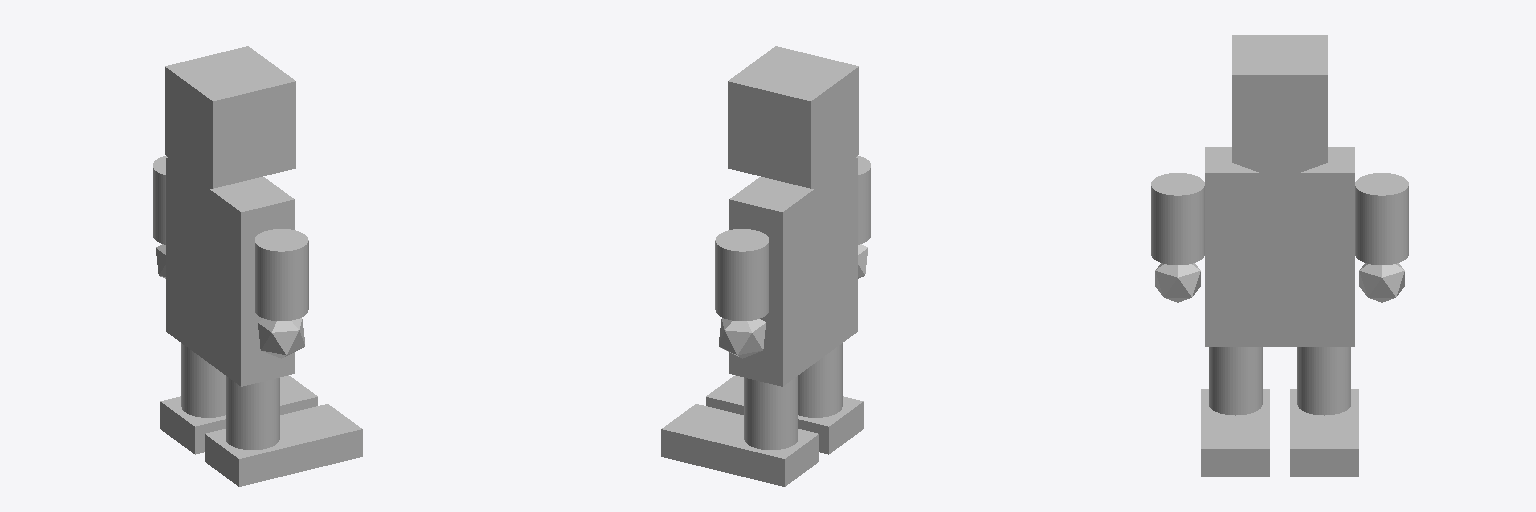
File: pawn_rev01.obj
3 renders of one model, left to right at view 1: azimuth 30°, elevation 25°; view 2: azimuth 150°, elevation 25°; view 3: azimuth 270°, elevation 25°, orthographic.
Parts seen in each view (by area): view 1: body_bodyMesh, head_headMesh, footRight_footRightMesh, armRight_armRightMesh, legRight_legRightMesh, footLeft_footLeftMesh, legLeft_legLeftMesh, handRight_handRightMesh, armLeft_armLeftMesh; view 2: body_bodyMesh, head_headMesh, footLeft_footLeftMesh, armLeft_armLeftMesh, legLeft_legLeftMesh, footRight_footRightMesh, legRight_legRightMesh, handLeft_handLeftMesh, armRight_armRightMesh; view 3: body_bodyMesh, head_headMesh, footLeft_footLeftMesh, footRight_footRightMesh, armLeft_armLeftMesh, armRight_armRightMesh, legLeft_legLeftMesh, legRight_legRightMesh, handLeft_handLeftMesh, handRight_handRightMesh.
Part boxes in pixels (left/top/right/bottom): body_bodyMesh: left=166, top=157, right=294, bottom=386; head_headMesh: left=165, top=46, right=295, bottom=188; footRight_footRightMesh: left=205, top=404, right=362, bottom=486; armRight_armRightMesh: left=255, top=229, right=308, bottom=320; legRight_legRightMesh: left=226, top=376, right=279, bottom=449; footLeft_footLeftMesh: left=160, top=375, right=317, bottom=454; legLeft_legLeftMesh: left=181, top=343, right=225, bottom=417; handRight_handRightMesh: left=258, top=318, right=304, bottom=358; armLeft_armLeftMesh: left=153, top=156, right=166, bottom=244; body_bodyMesh: left=729, top=157, right=857, bottom=386; head_headMesh: left=728, top=46, right=858, bottom=188; footLeft_footLeftMesh: left=661, top=404, right=818, bottom=486; armLeft_armLeftMesh: left=715, top=229, right=768, bottom=320; legLeft_legLeftMesh: left=744, top=376, right=797, bottom=449; footRight_footRightMesh: left=706, top=375, right=863, bottom=454; legRight_legRightMesh: left=798, top=343, right=842, bottom=417; handLeft_handLeftMesh: left=719, top=318, right=765, bottom=358; armRight_armRightMesh: left=857, top=156, right=870, bottom=244; body_bodyMesh: left=1205, top=147, right=1354, bottom=346; head_headMesh: left=1232, top=35, right=1327, bottom=179; footLeft_footLeftMesh: left=1290, top=389, right=1358, bottom=476; footRight_footRightMesh: left=1201, top=389, right=1269, bottom=476; armLeft_armLeftMesh: left=1355, top=173, right=1408, bottom=264; armRight_armRightMesh: left=1151, top=173, right=1204, bottom=264; legLeft_legLeftMesh: left=1297, top=347, right=1350, bottom=415; legRight_legRightMesh: left=1209, top=347, right=1262, bottom=415; handLeft_handLeftMesh: left=1359, top=263, right=1404, bottom=302; handRight_handRightMesh: left=1155, top=263, right=1200, bottom=302.
Bounding box in the file's own units: 0.575 × 1.54 × 0.9571.